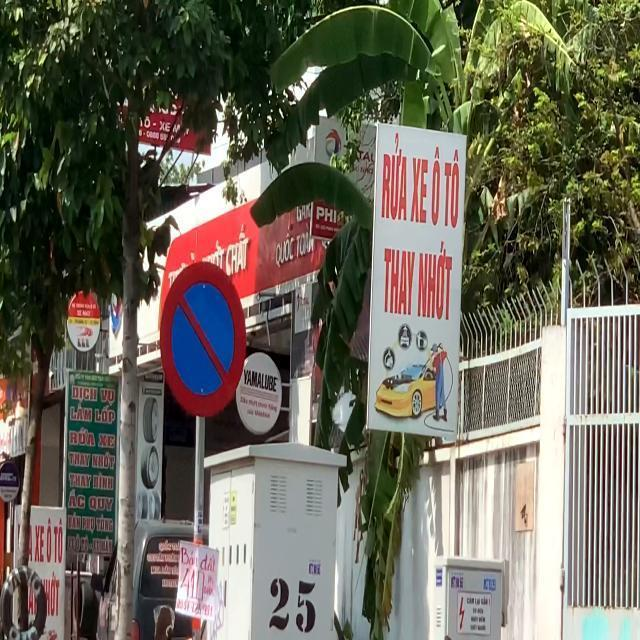131a-cam-do-xe: (160, 260, 248, 414)
